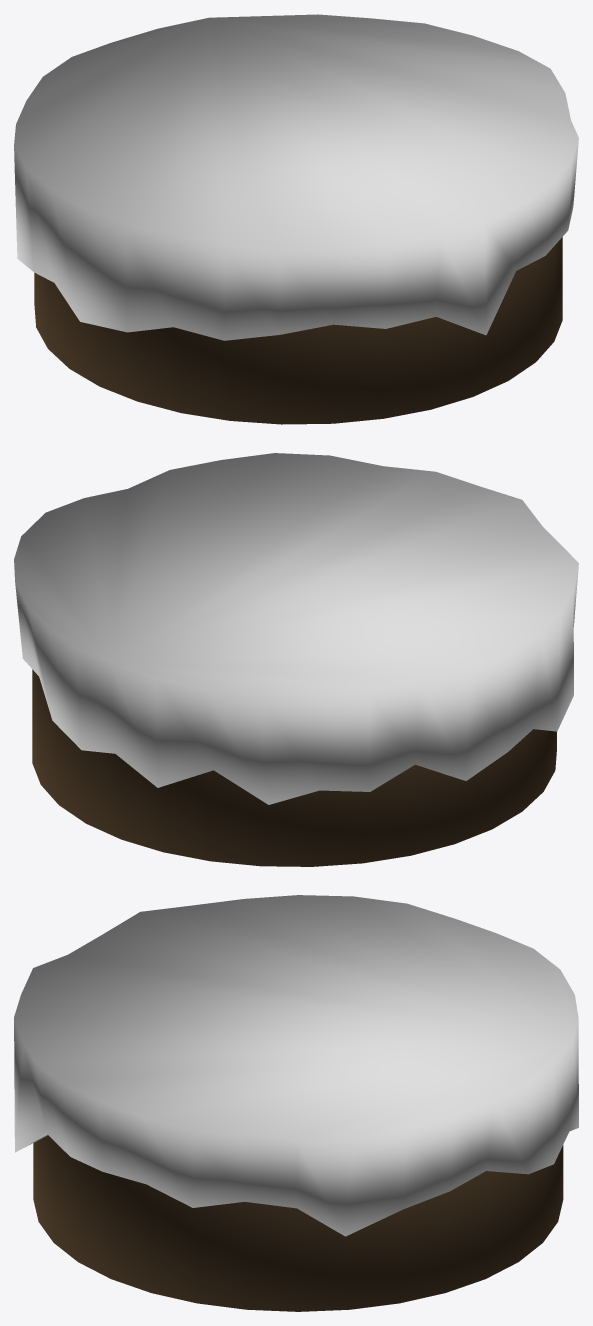
The model's file is Cake.fbx.
3 renders of one model, top to bottom at view 1: azimuth 30°, elevation 25°; view 2: azimuth 150°, elevation 25°; view 3: azimuth 270°, elevation 25°, orthographic.
Visible parts, largest first — view 1: Bake_Cake_Chocolate; view 2: Bake_Cake_Chocolate; view 3: Bake_Cake_Chocolate.
Boxes of the visible parts, x1,y1,x2,y2 form: Bake_Cake_Chocolate: [14, 14, 578, 424]; Bake_Cake_Chocolate: [14, 453, 578, 866]; Bake_Cake_Chocolate: [14, 895, 578, 1311].
Size of the model in its own units: 50.96 by 18.23 by 49.92.
